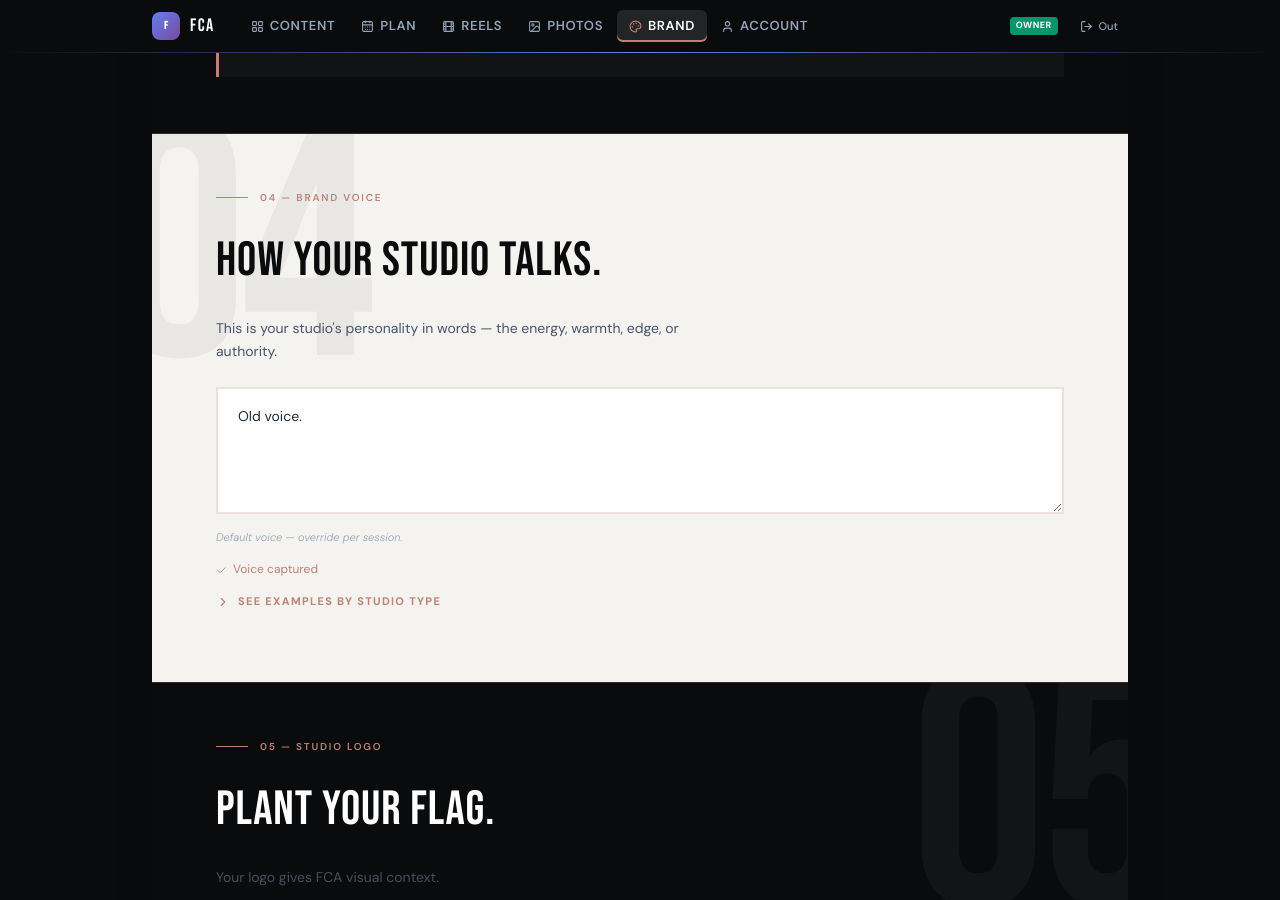
Test case: AG-1.2 Brand Settings save error › a failed save shows an error, keeps the input, and the button retries
(page scrolled)
Replace the text in the text box showing "Old voice." with "New voice, typed carefully." at coordinates (640, 450), box [216,387,1064,514]
(page scrolled)
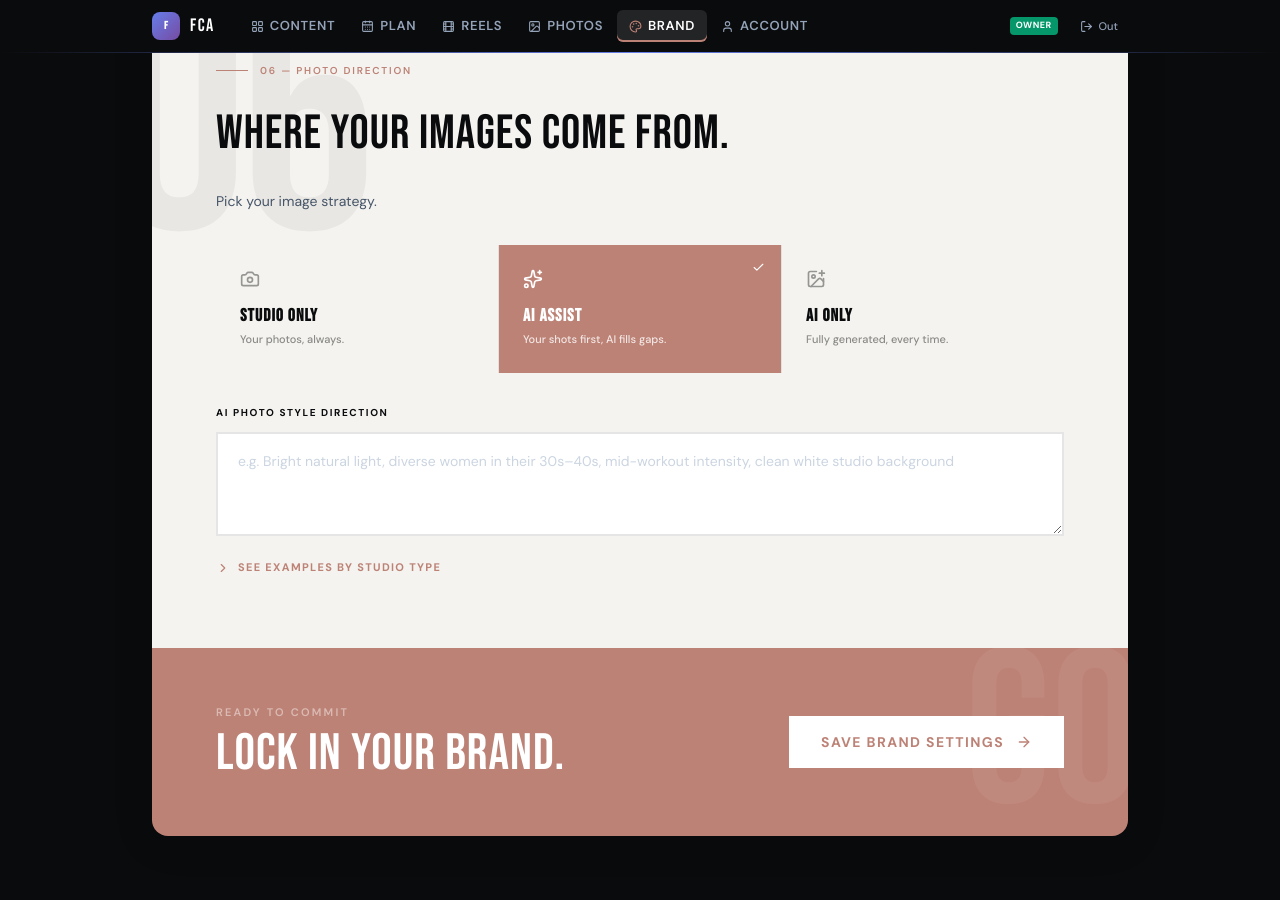
Click the button "Save Brand Settings" at coordinates (927, 742), box [789,716,1064,768]
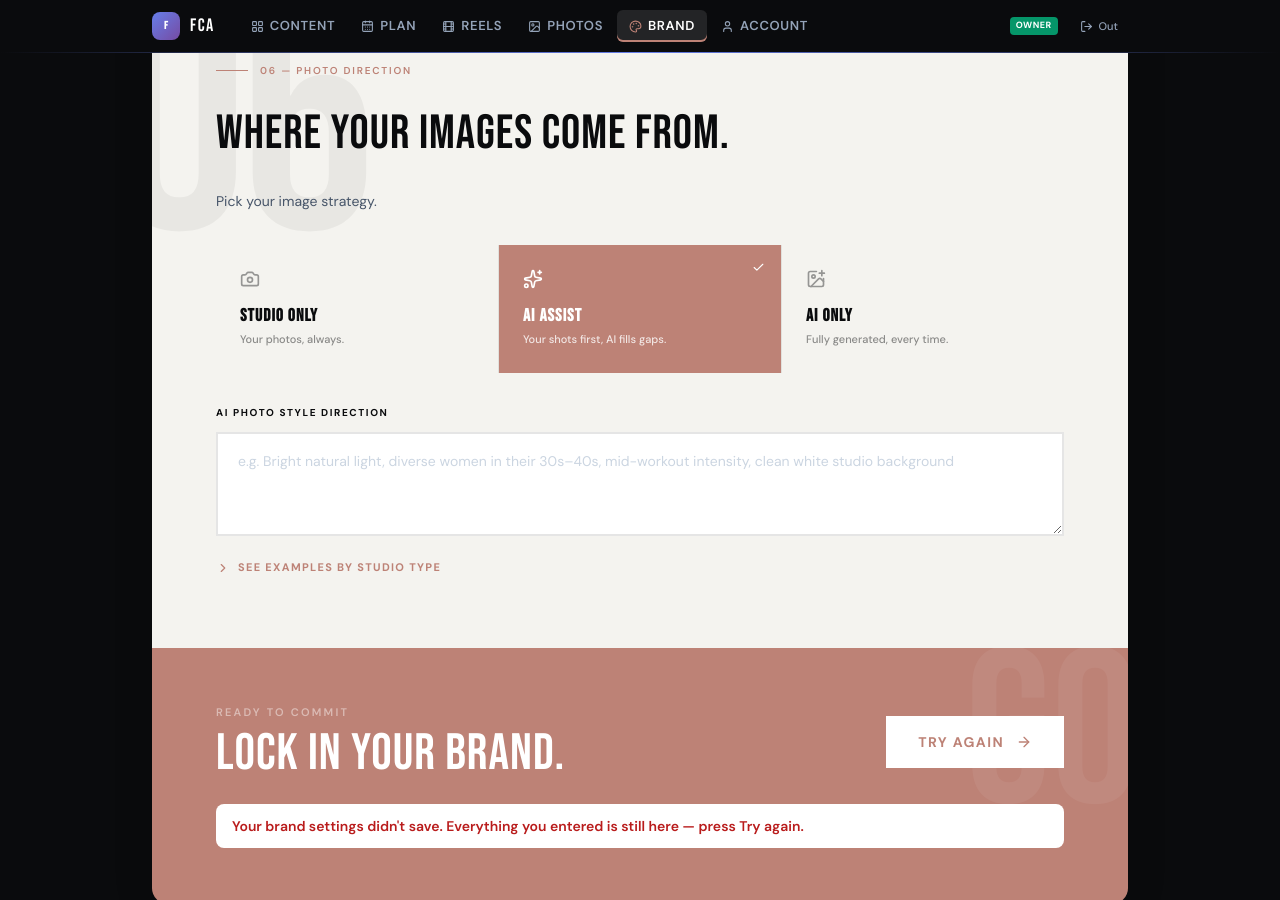
Expected: the message shows "didn't save", [232,816,804,834]
Click the button "Try again" at coordinates (975, 742), box [886,716,1064,768]
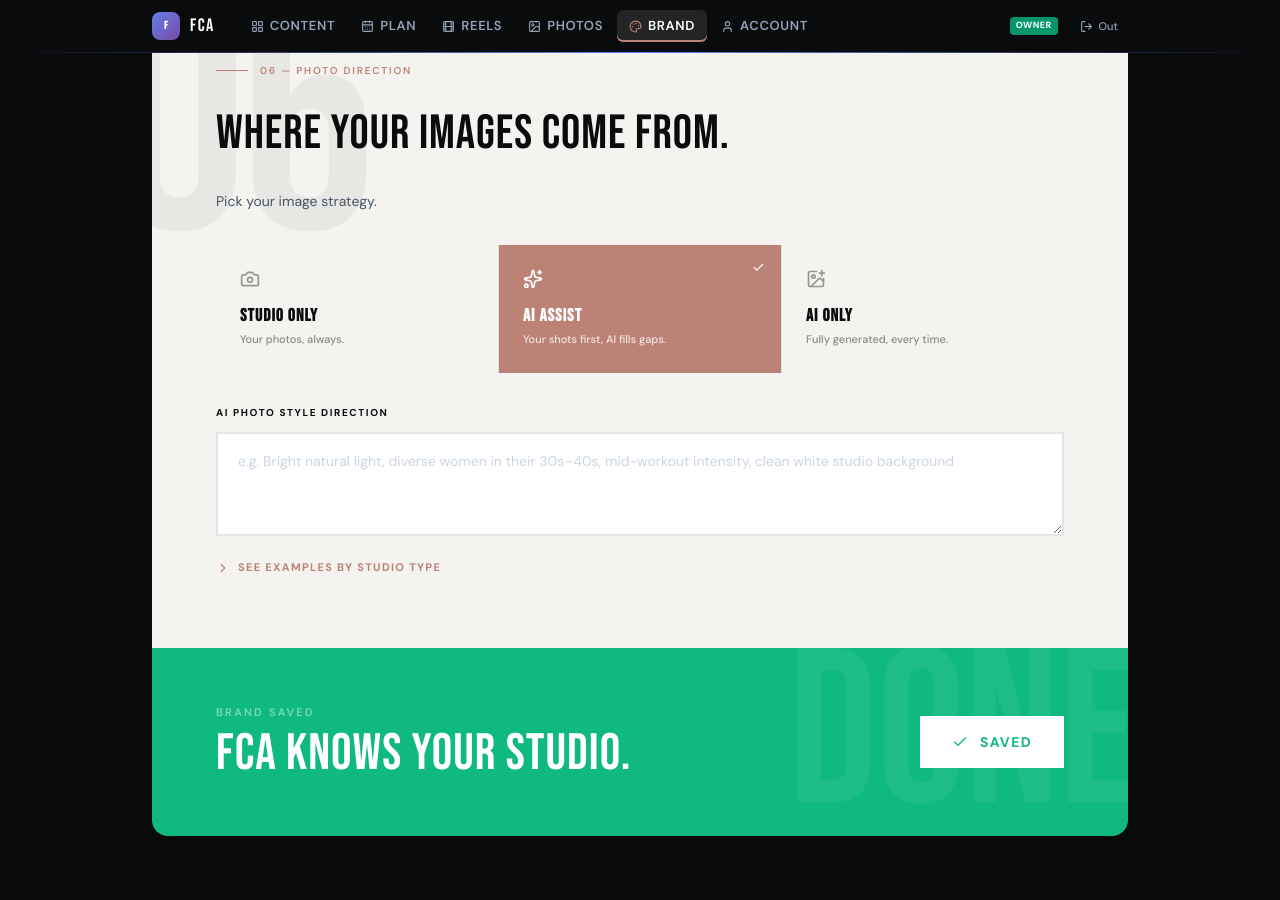
Expected: the message is gone
Expected: the button "Saved" is shown, [920,716,1064,768]
